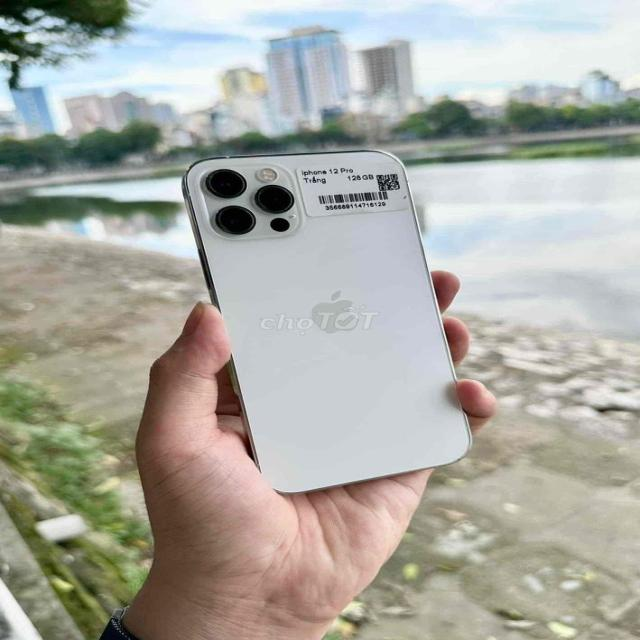gen_12_13: (159, 148, 475, 499)
